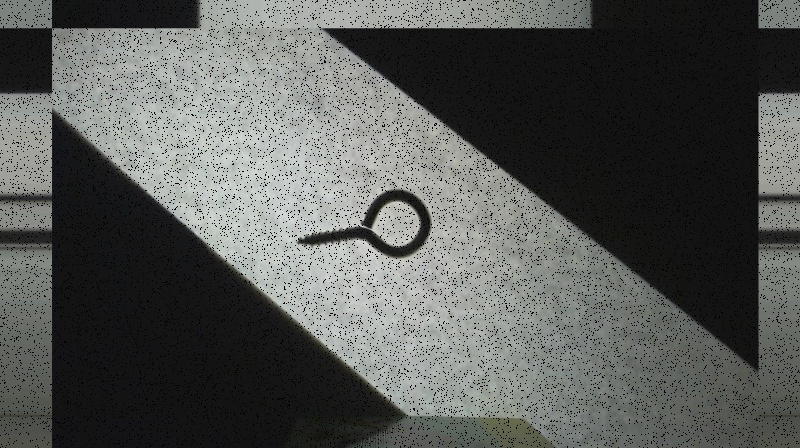O001: (292, 184, 433, 259)
